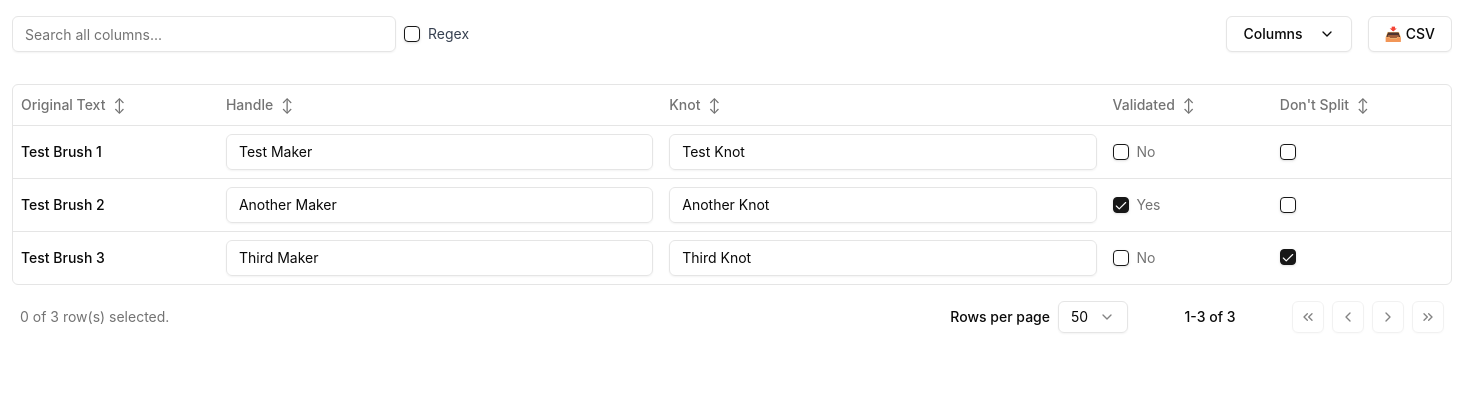
Test: BrushSplitTable › Inline Editing Functionality › allows toggling validation checkbox
This screenshot has width=1464, height=403.
Click the checkbox named "Validated for row 1".
click(1120, 152)  # box [1112,144,1128,160]
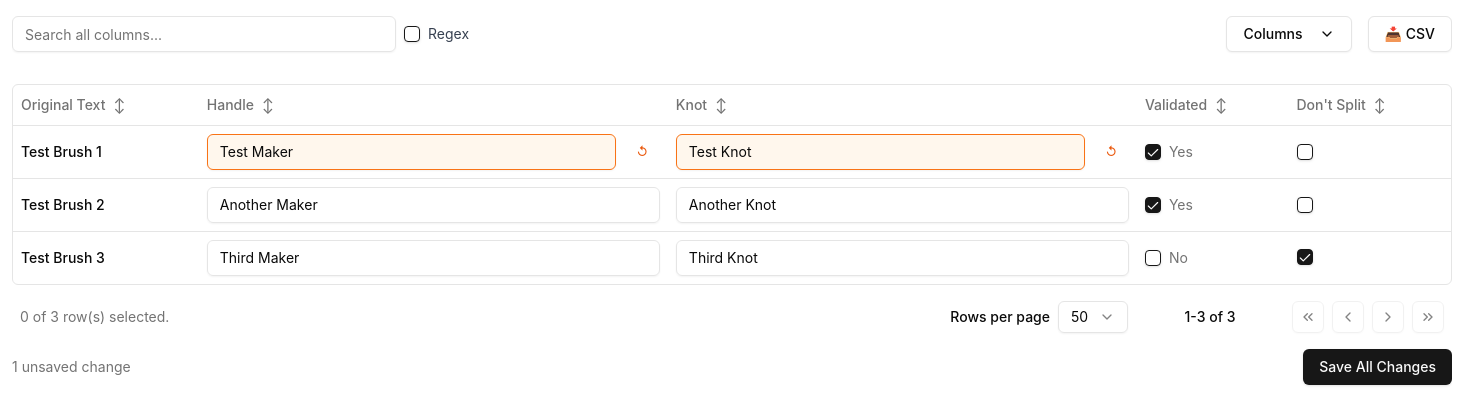
expect the button "Save All Changes" is shown: met, box [1303,348,1452,384]
